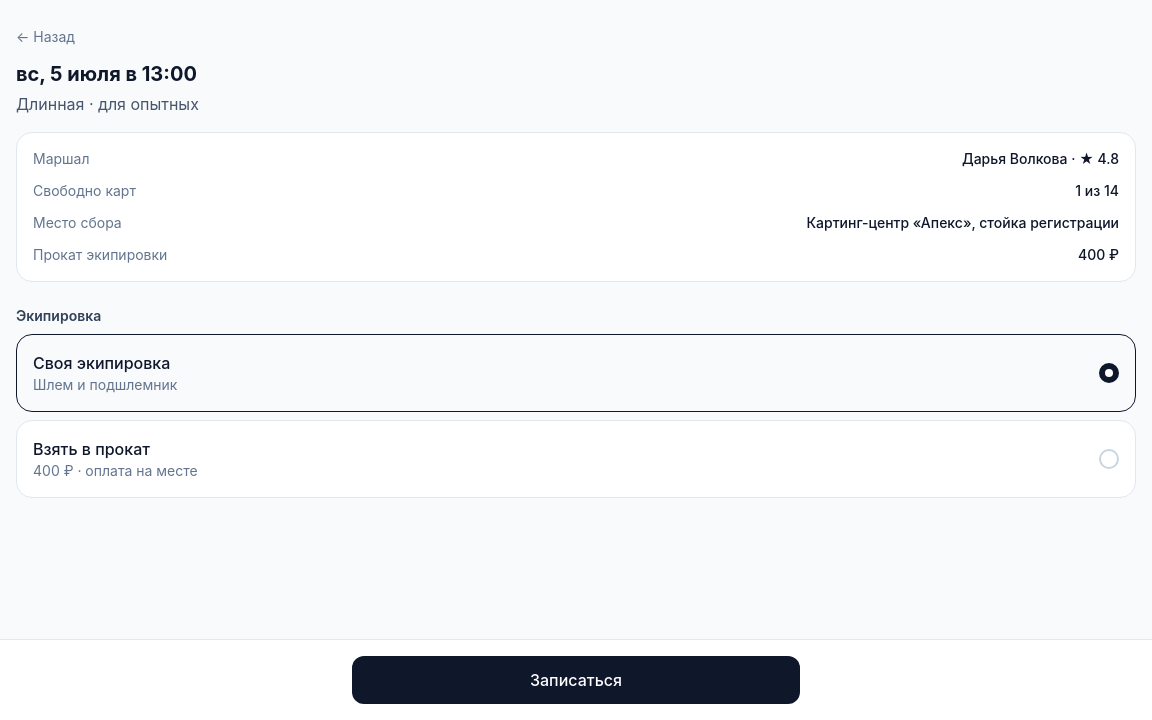
Test: SlotDetailsPage › shows a conflict message instead of crashing when the last kart is taken between page-load and submit
The image size is (1152, 720).
Click the button "Записаться": [576, 680] box top-left (352, 656), bottom-right (800, 704)
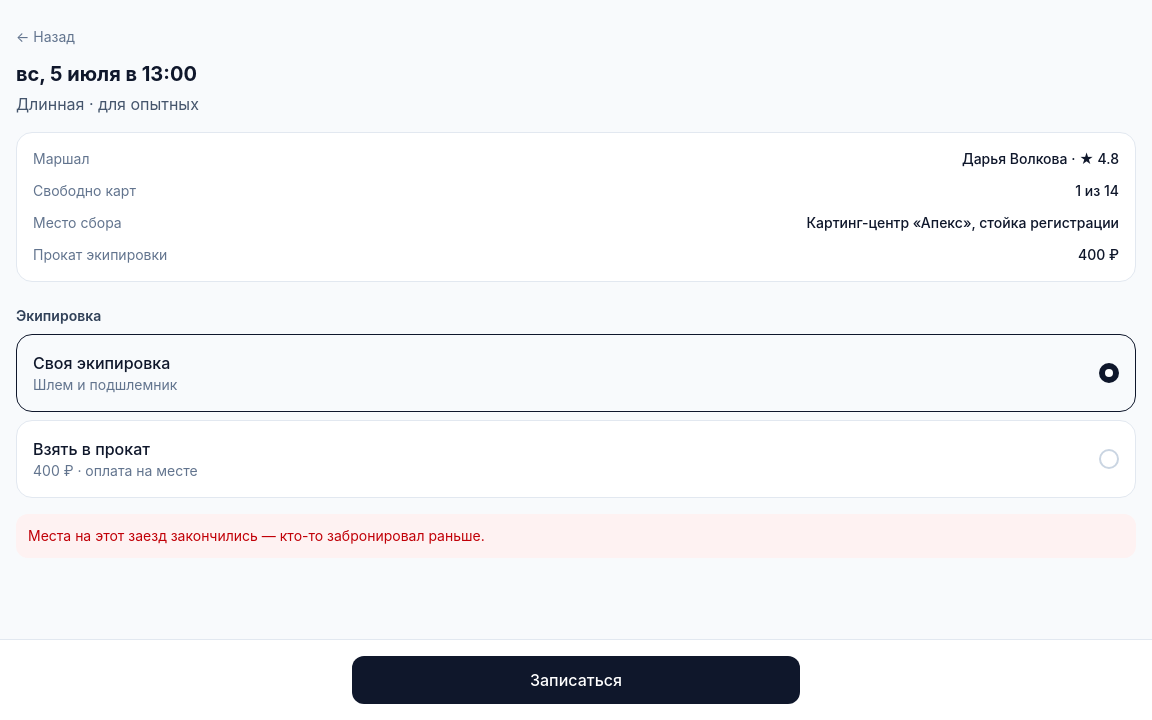
Expected: the text "Места на этот заезд закончились" is shown, top-left (28, 527), bottom-right (485, 544)
